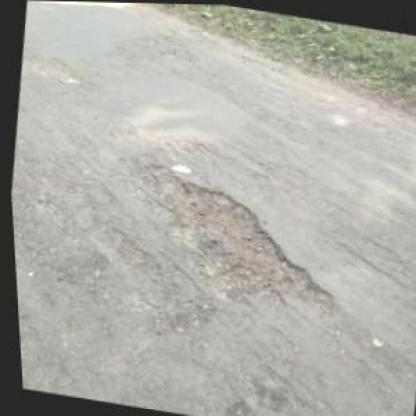pothole: (117, 158, 352, 325)
